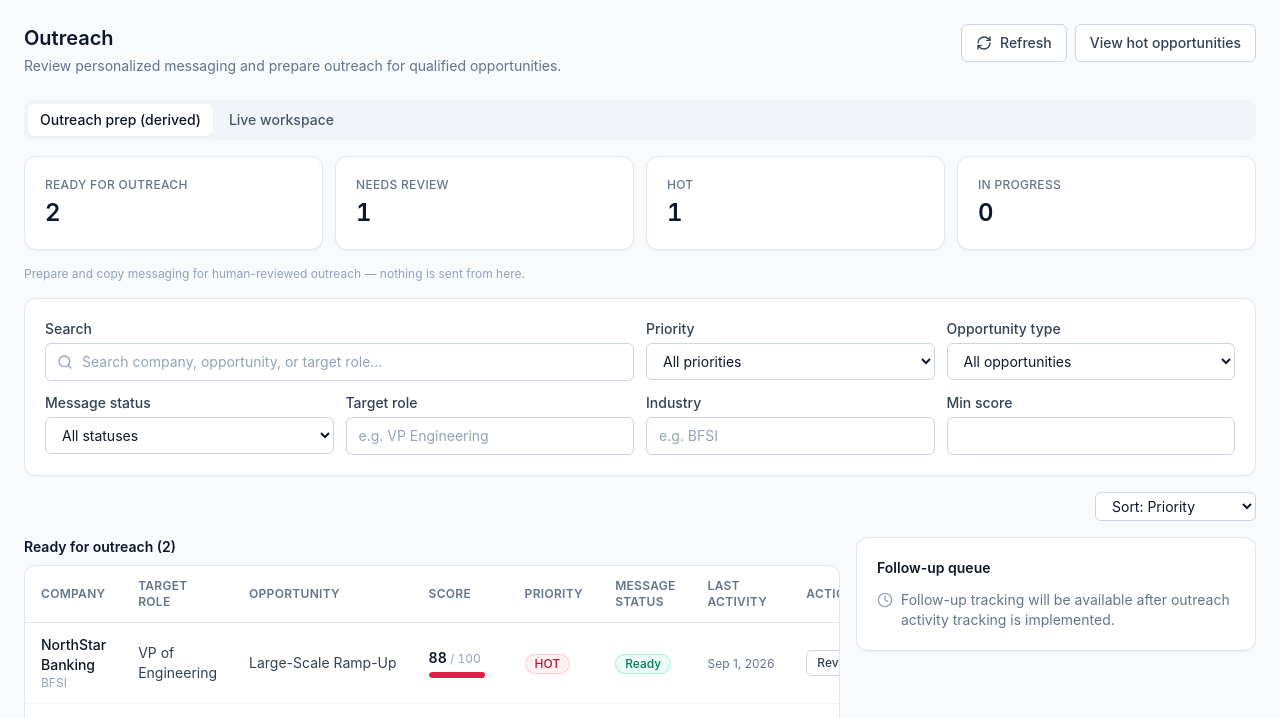
Test: OutreachPage › searches the queue
expect the heading "Ready for outreach (2)" is shown: met, box 24,538 -> 176,555
Type "helios" into the field labelled "Search" at [340, 362], box 45,343 -> 634,381
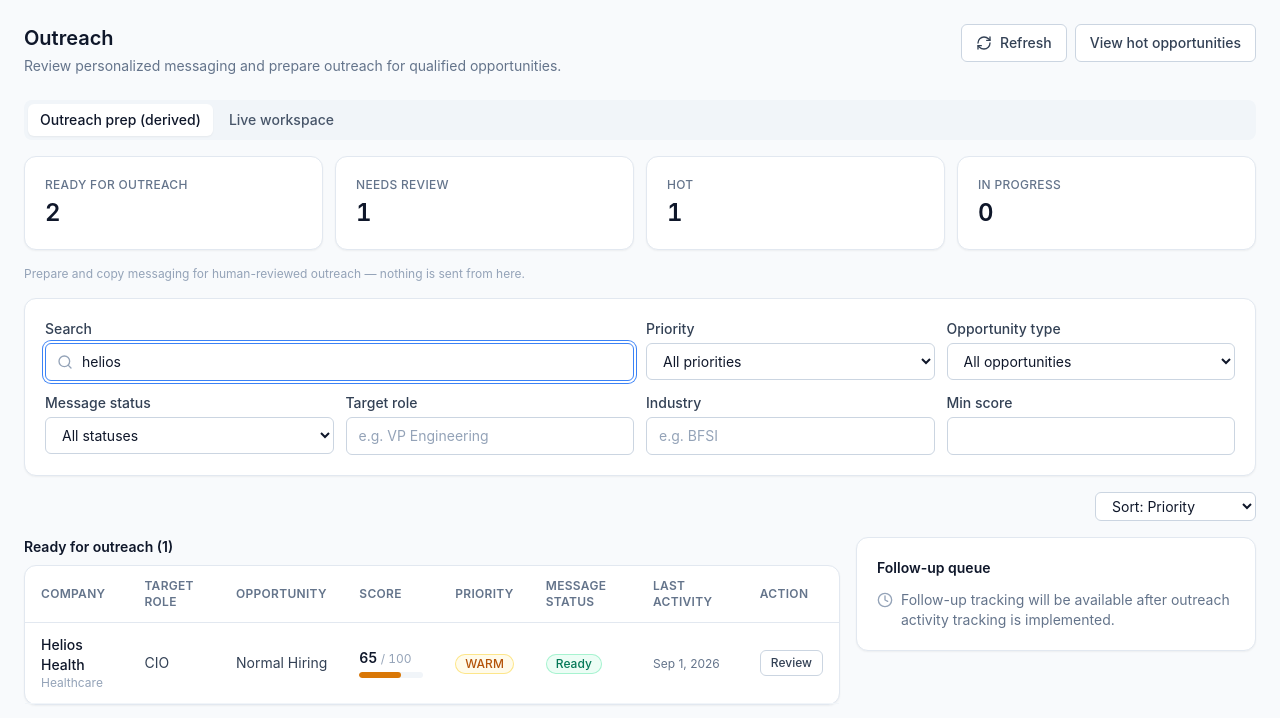
expect the text "Helios Health" is shown: met, box 41,636 -> 85,673
expect the text "NorthStar Banking" is gone: met
